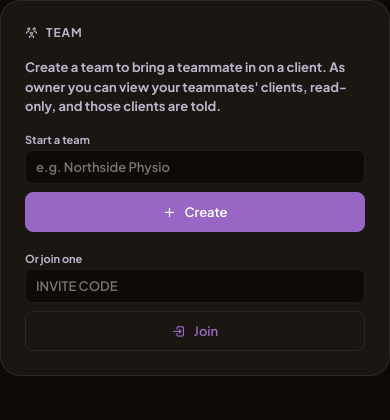
TeamCard — not on a team › will not create an unnamed team, and says why
Step 1. Click the button "Create" → (195, 212), box [25, 192, 365, 232]
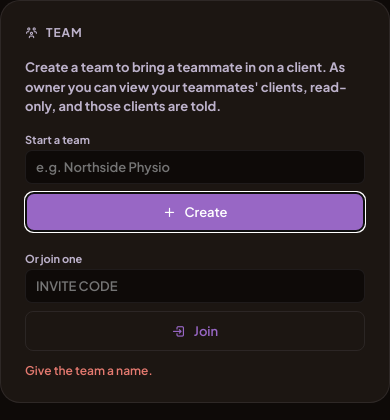
Check: the message shows "Give the team a name", box [25, 362, 153, 378]
